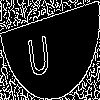U: (25, 25, 52, 79)
